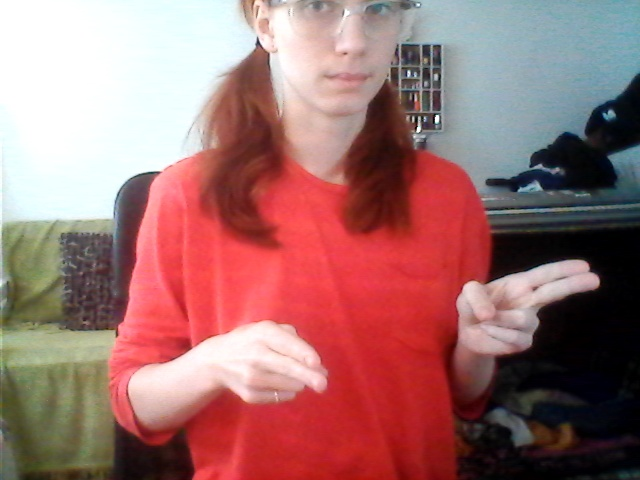ako: (221, 247, 606, 425)
